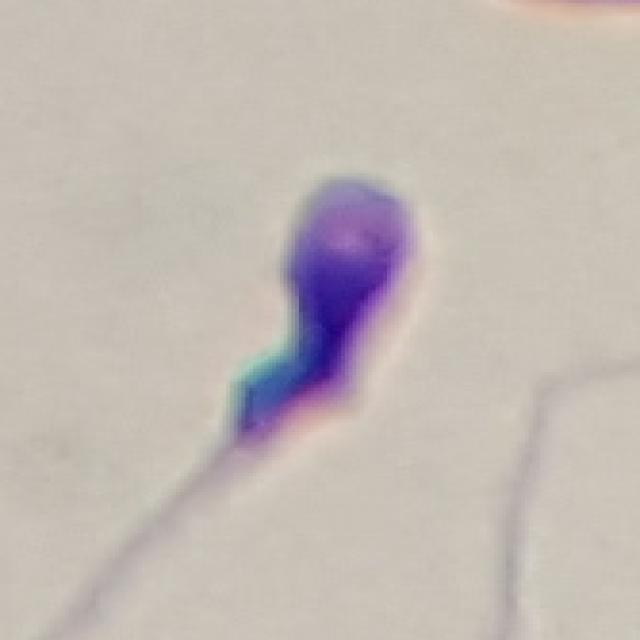abnormal sperm: (140, 175, 423, 536)
